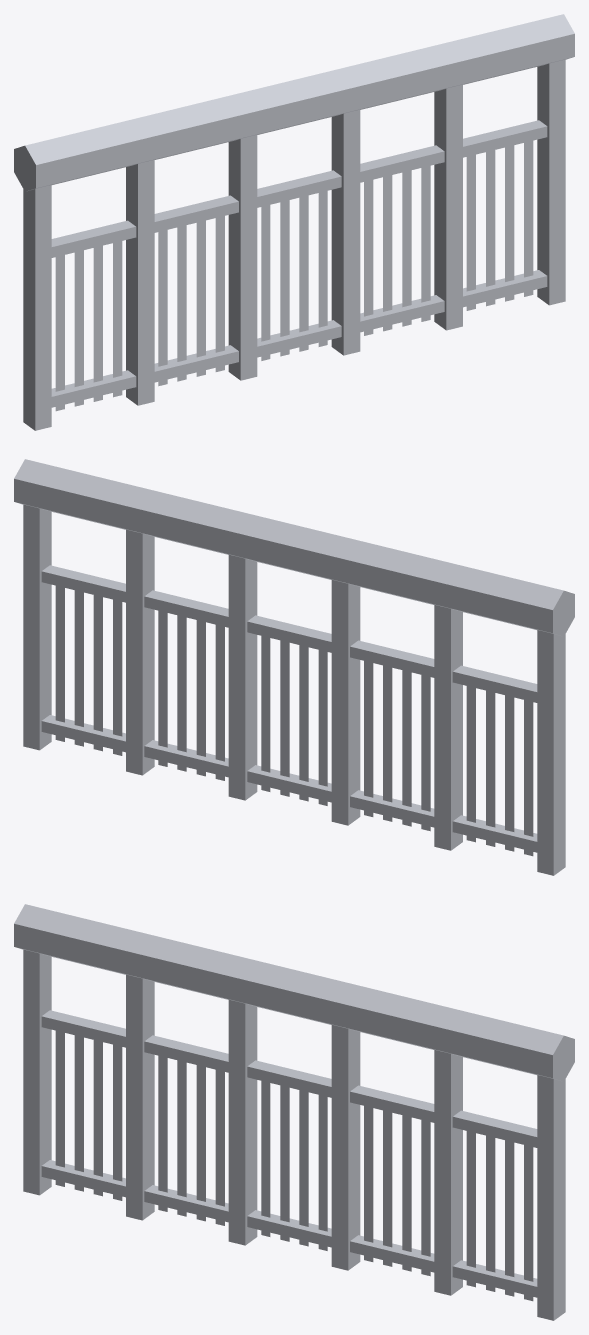
The model's file is 00e1_Handrail.glb.
3 renders of one model, top to bottom at view 1: azimuth 30°, elevation 25°; view 2: azimuth 150°, elevation 25°; view 3: azimuth 330°, elevation 25°, orthographic.
Parts seen in each view (by area): view 1: part_0; view 2: part_0; view 3: part_0.
Boxes of the visible parts, x1,y1,x2,y2 form: part_0: [14, 14, 574, 430]; part_0: [14, 459, 574, 875]; part_0: [14, 904, 574, 1320].
Bounding box in the file's own units: 2.6 × 1.3 × 0.1846.
1 material, 1 textured.
